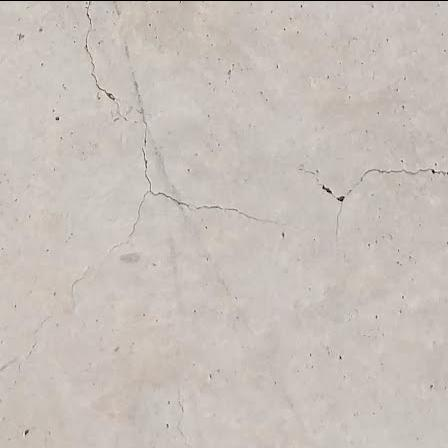crack: (91, 125, 291, 254), (288, 97, 448, 245), (0, 308, 57, 409), (72, 0, 118, 106), (63, 260, 91, 316), (169, 382, 192, 448), (135, 104, 153, 147)
